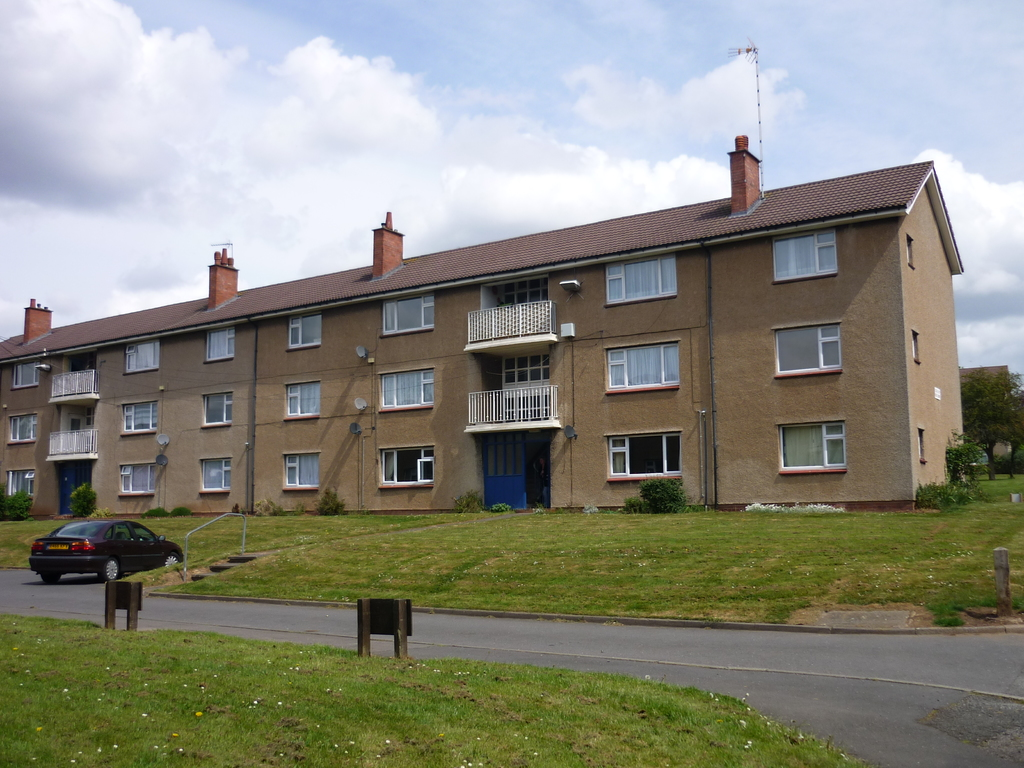Car: (24, 520, 184, 583)
